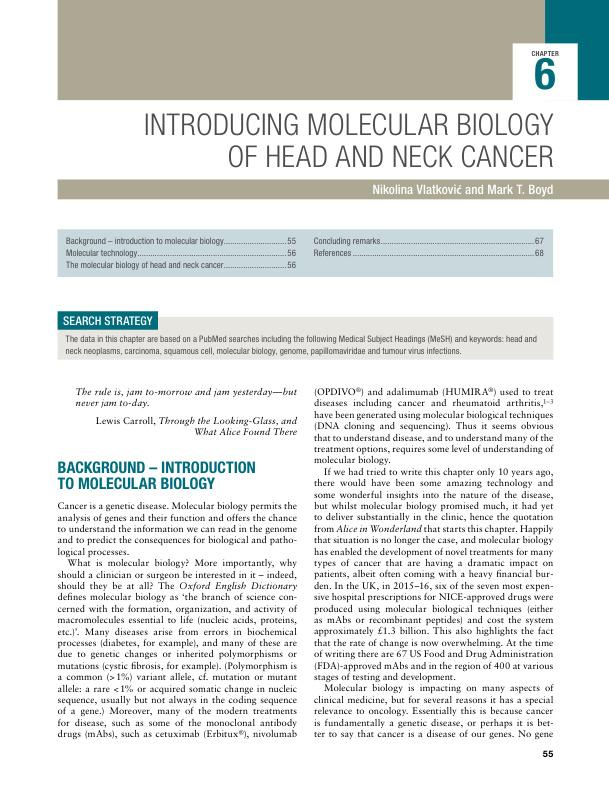chapter-heading: (143, 110, 555, 169)
section-heading: (56, 459, 257, 491)
text: (312, 386, 554, 741), (56, 499, 298, 741), (72, 384, 300, 438), (64, 333, 538, 358)
